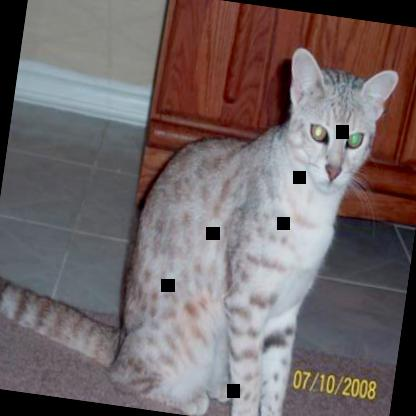cat: (0, 7, 403, 415)
